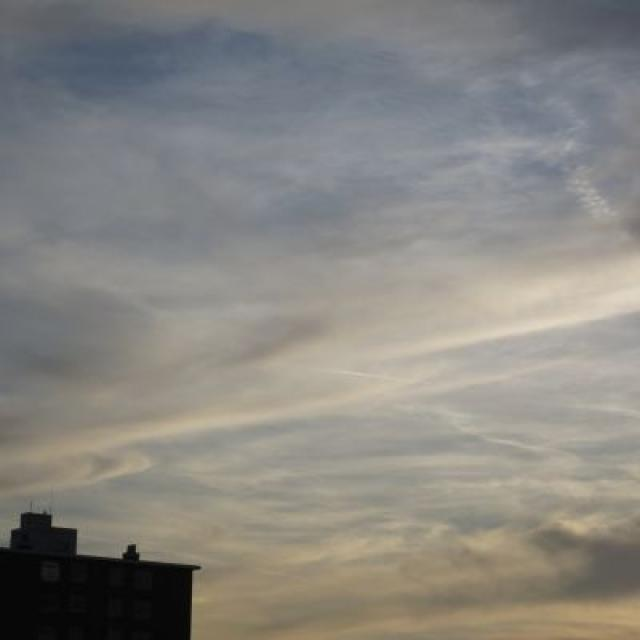Ct: (1, 71, 640, 492)
